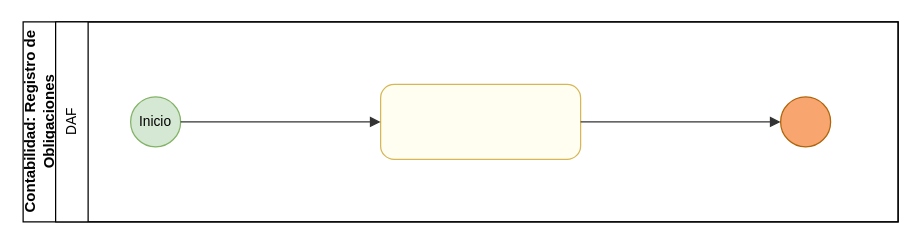
The diagram is 920 pixels wide and 244 high, and some of its shapes have lost their labels. Each missing label, with the box of its shape:
Elaborar Certificado: (379, 83, 581, 159)
Fin: (779, 96, 831, 147)
